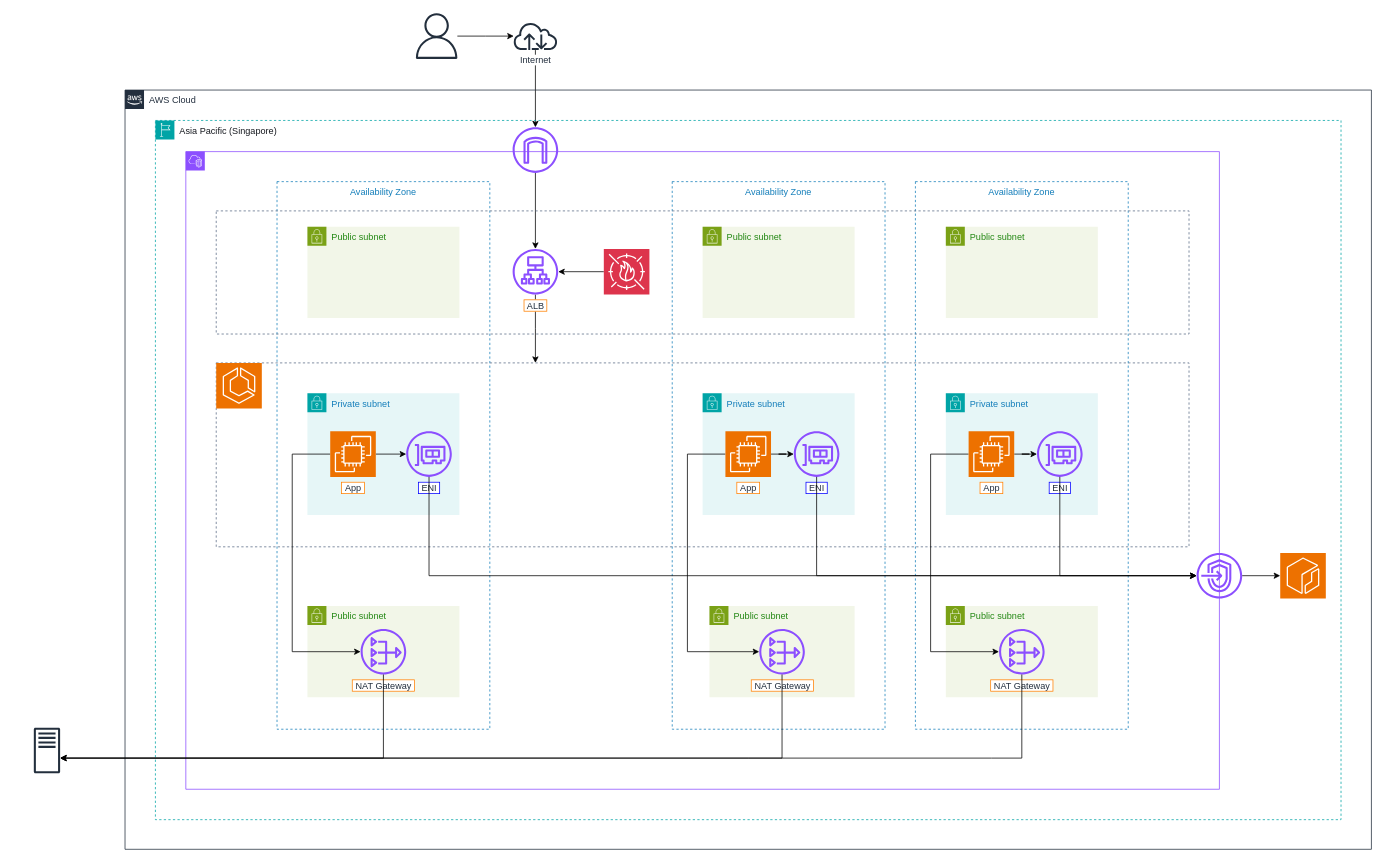
This 1385x863 diagram has some shape labels left out. The shapes that lost their labels are listed below. From the top down, each one's box as (x1, y1, x2, y2) in pixels, then its label:
(413, 13, 459, 59): User
(512, 127, 558, 173): IGW
(603, 248, 649, 294): WAF
(215, 210, 1189, 334): Application Load Balancer
(215, 362, 262, 408): ECS
(185, 151, 1219, 789): VPC 10.0.0.0/16
(1196, 553, 1242, 598): AWS PrivateLink VPC Endpoint
(1279, 552, 1326, 598): ECR
(33, 727, 60, 773): Yahoo! Weather
